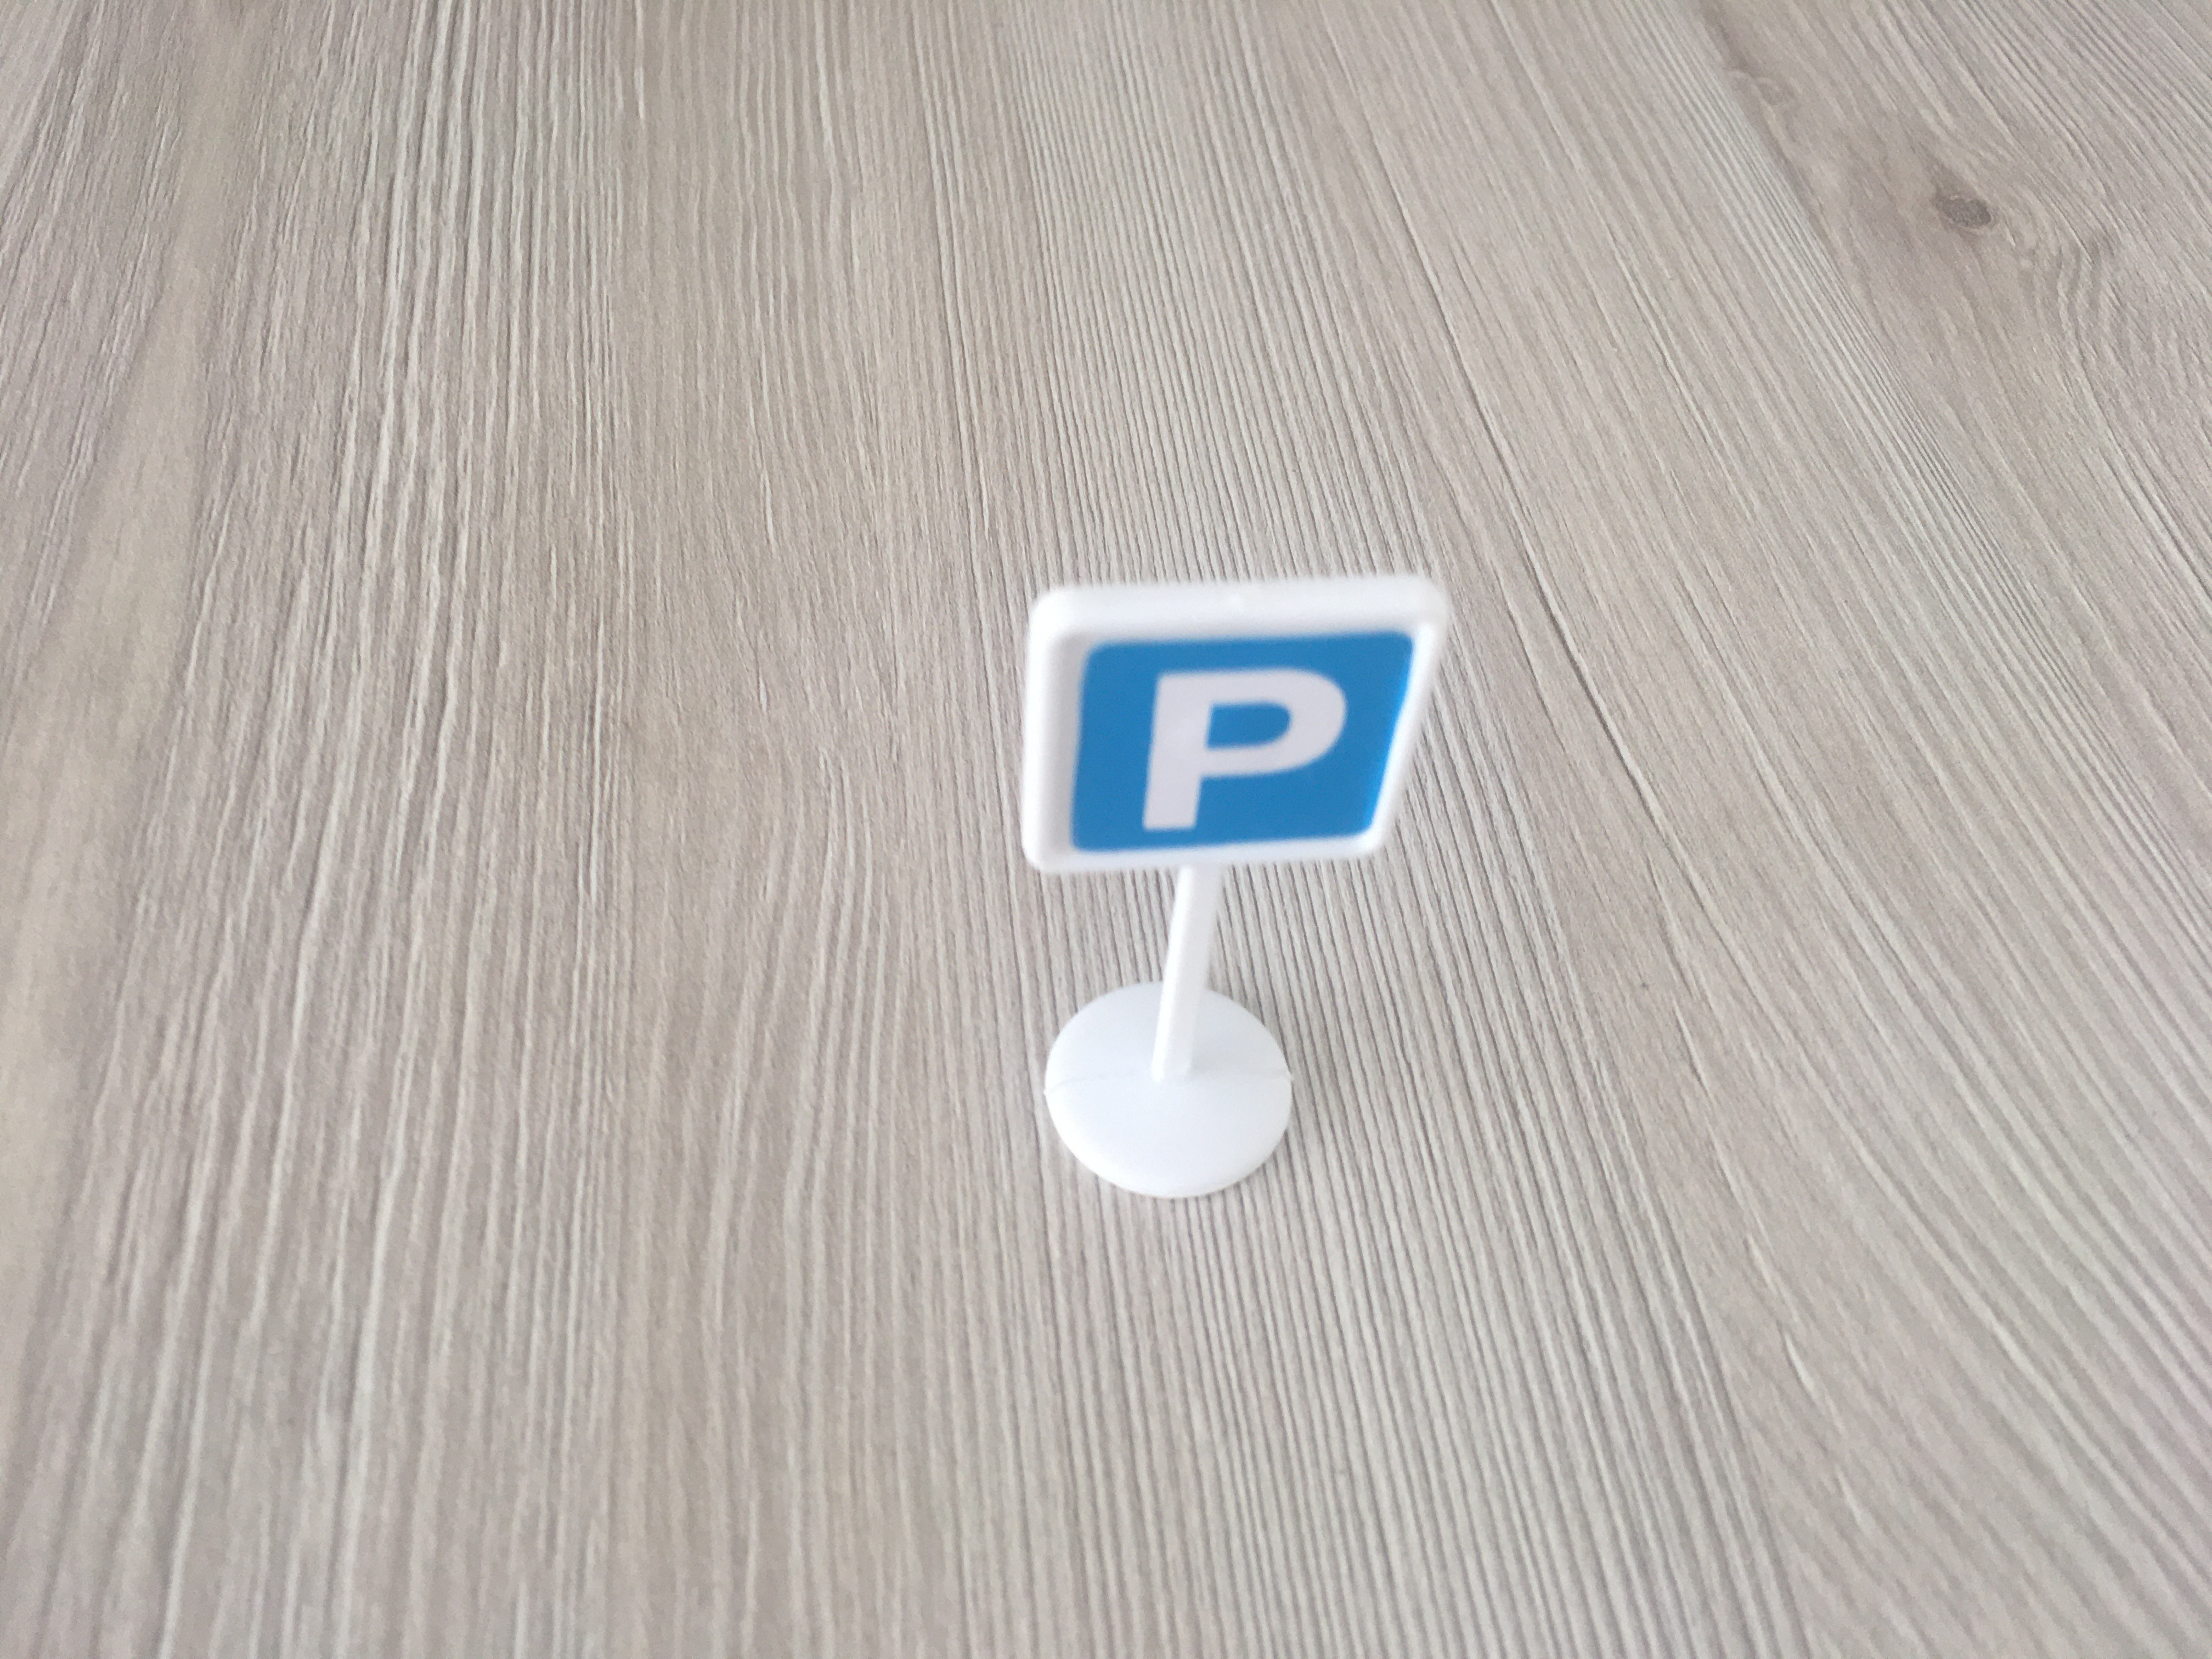parking: (1015, 573, 1460, 871)
